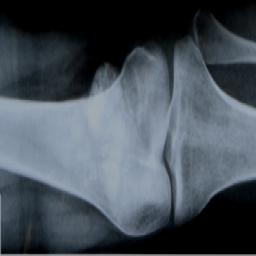cancer: (86, 62, 134, 194)
